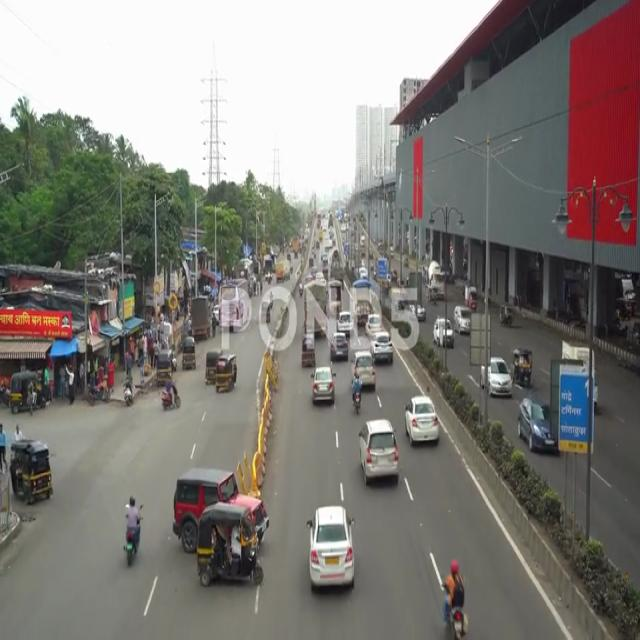car: (306, 503, 356, 594), (358, 422, 400, 489), (518, 394, 552, 452), (405, 399, 439, 449), (490, 349, 512, 400), (311, 368, 336, 407), (361, 350, 376, 392), (375, 334, 393, 364)
motorbike: (437, 553, 470, 640), (122, 493, 143, 569)
rikshaw: (199, 510, 263, 587), (10, 442, 53, 508), (514, 344, 534, 391), (218, 358, 239, 393)
